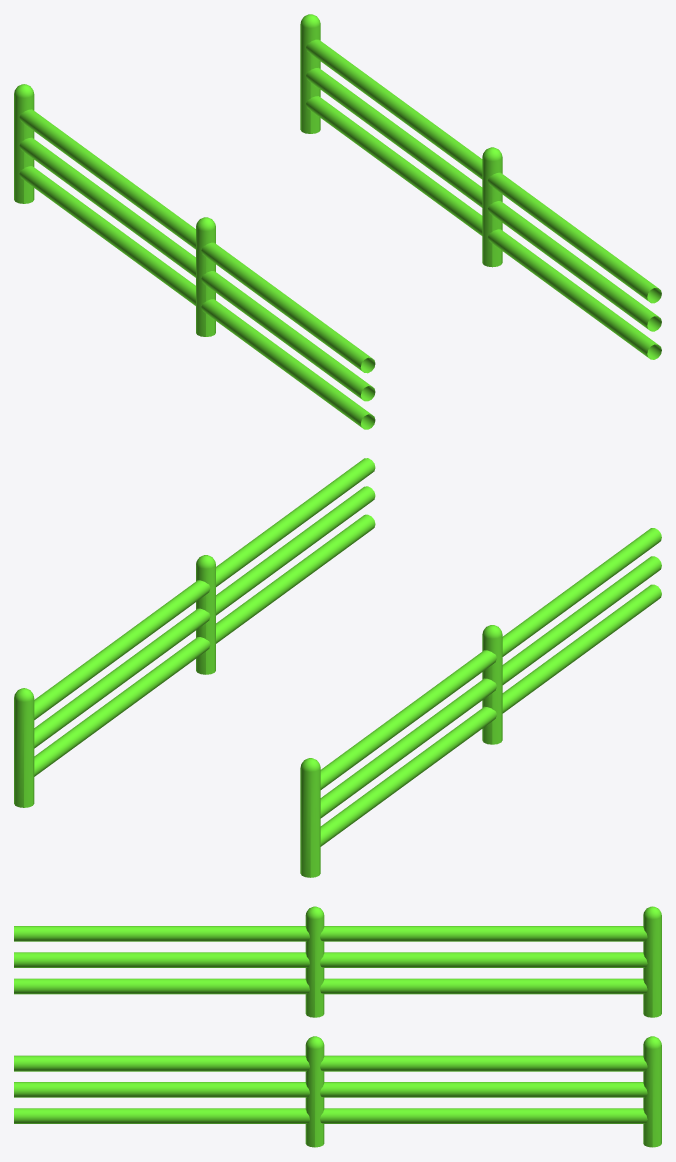
File: Rail_Start.fbx
The picture shows the model from 3 angles, top to bottom: view 1: azimuth 30°, elevation 25°; view 2: azimuth 150°, elevation 25°; view 3: azimuth 270°, elevation 25°; orthographic projection. The views are drawn at different scales.
Visible parts, largest first — view 1: Rail_Start; view 2: Rail_Start; view 3: Rail_Start.
Part boxes in pixels (x1,y1,x2,y2): Rail_Start: [14, 14, 661, 429]; Rail_Start: [14, 458, 661, 877]; Rail_Start: [14, 906, 661, 1147].
Bounding box in the file's own units: 377 × 136 × 750.
